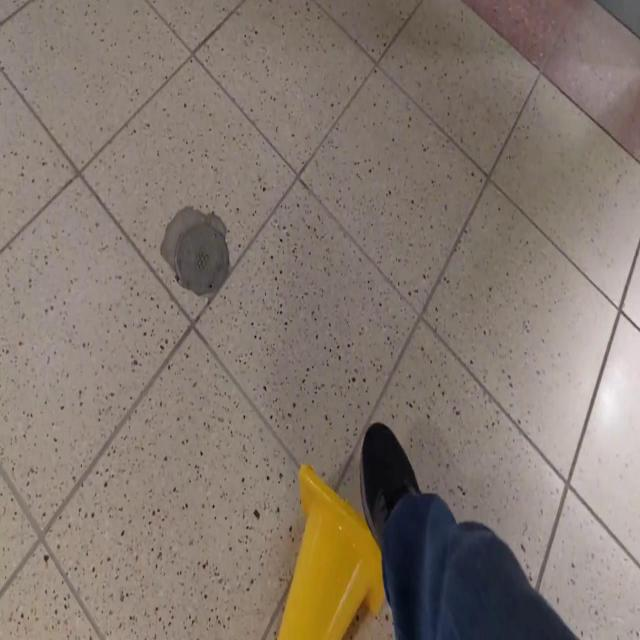frc_cone: (273, 461, 387, 640)
